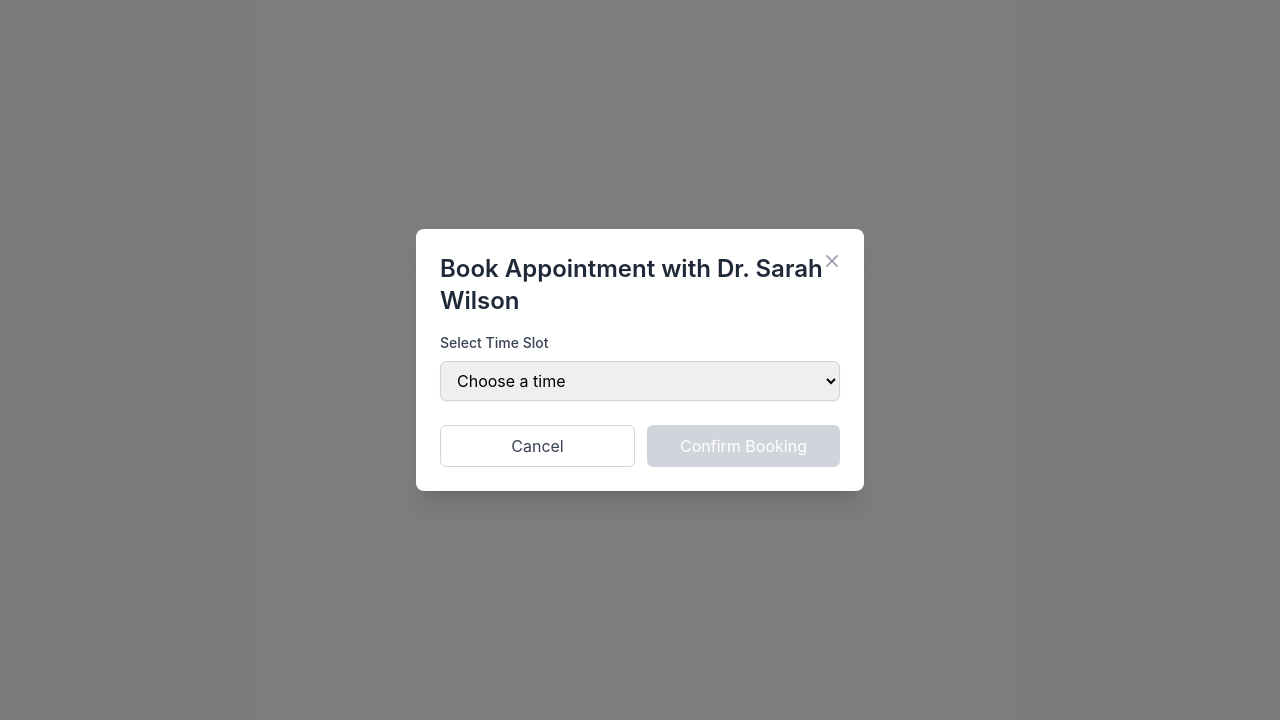
Test: BookingModal › enables confirm button after selecting a time slot
This screenshot has width=1280, height=720.
Check: the button "Confirm Booking" is disabled, box [647,425,840,467]
Select "09:00 AM" in the dropdown labelled "Select Time Slot" at (640, 381), box [440,361,840,401]
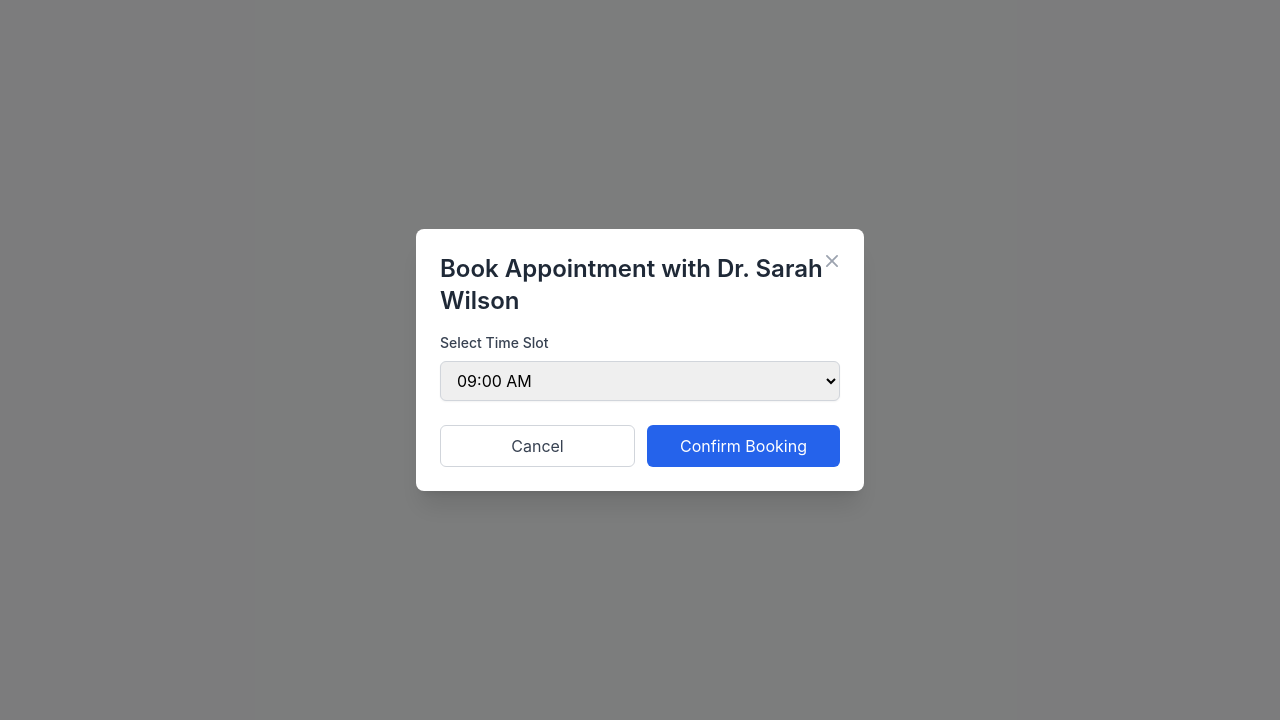
Check: the button "Confirm Booking" is enabled, box [647,425,840,467]
